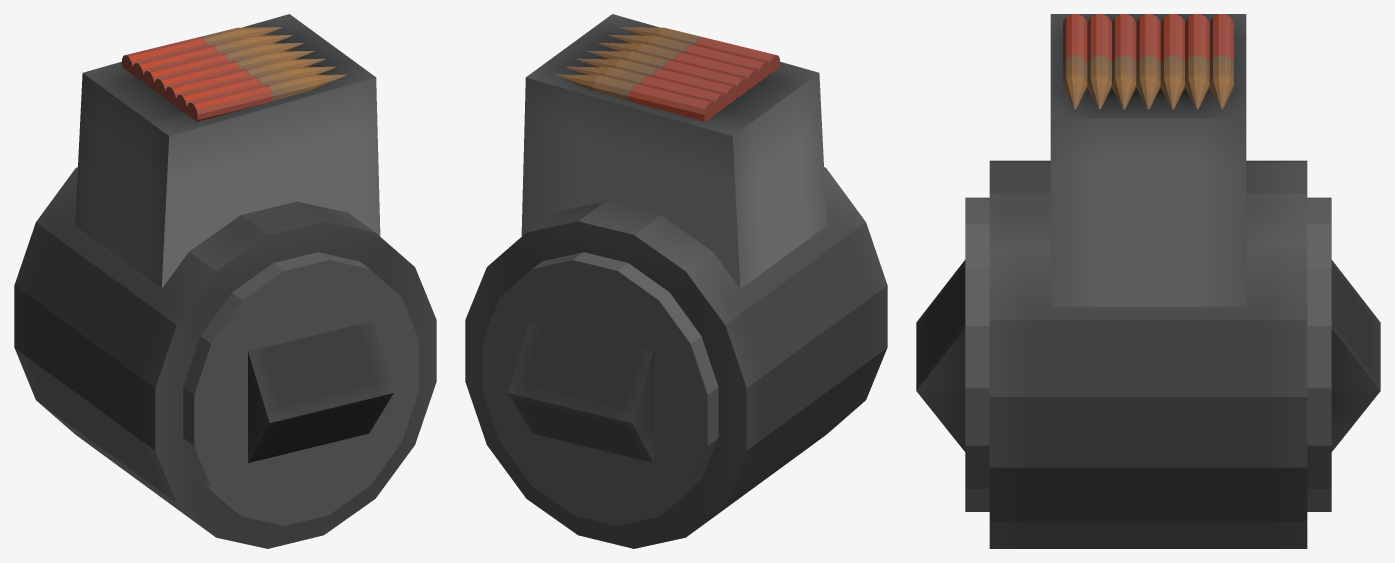
File: SCIFI-Heavy Machine Gun Clip.obj
3 views of the same model, side by side, from view 1: azimuth 30°, elevation 25°; view 2: azimuth 150°, elevation 25°; view 3: azimuth 270°, elevation 25° (orthographic). The views are drawn at different scales.
Parts seen in each view (by area): view 1: cylinder, cuboid, cone; view 2: cylinder, cuboid, cone; view 3: cylinder, cuboid, cone.
Part boxes in pixels (bbox=[...]): cylinder: bbox=[14, 167, 436, 548]; cuboid: bbox=[75, 14, 393, 462]; cone: bbox=[122, 27, 346, 121]; cylinder: bbox=[465, 167, 887, 548]; cuboid: bbox=[508, 14, 826, 462]; cone: bbox=[555, 27, 779, 121]; cylinder: bbox=[965, 160, 1331, 548]; cuboid: bbox=[916, 14, 1380, 451]; cone: bbox=[1063, 14, 1233, 109].
Size of the model in its own units: 0.1875 by 0.2719 by 0.2375.
Materials: 1 (1 with a texture image).
